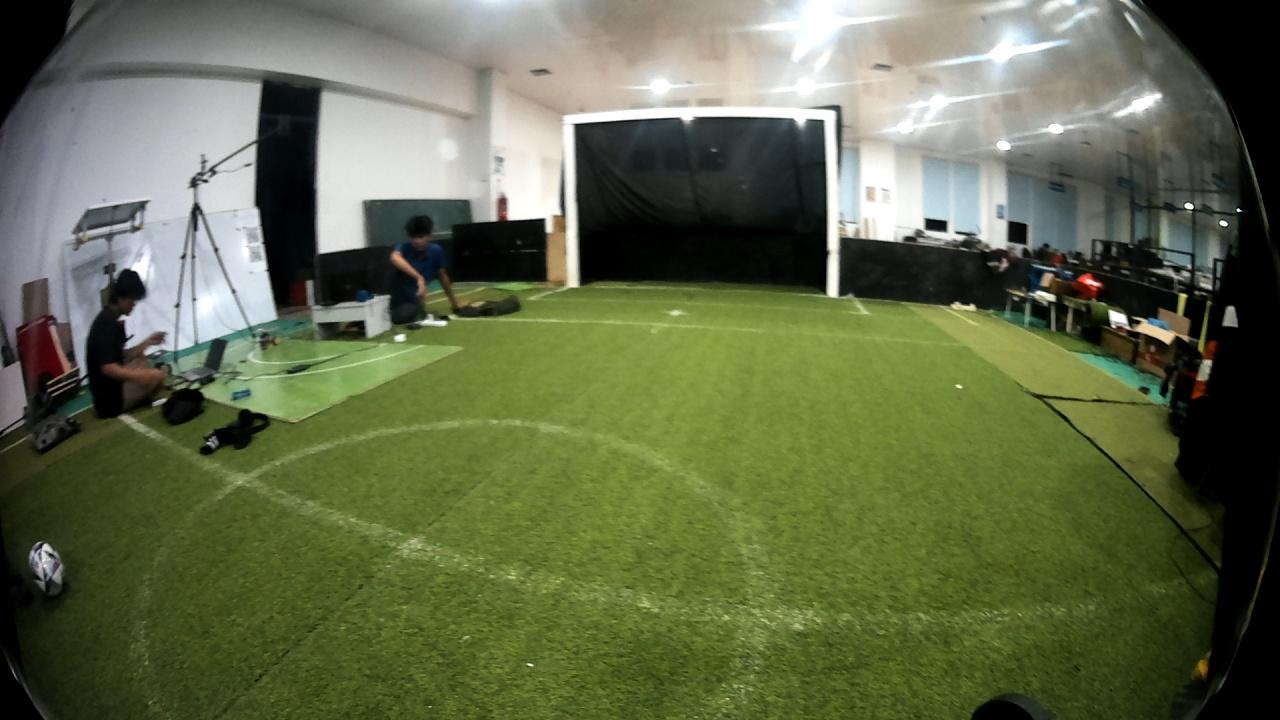ball: (28, 538, 65, 601)
